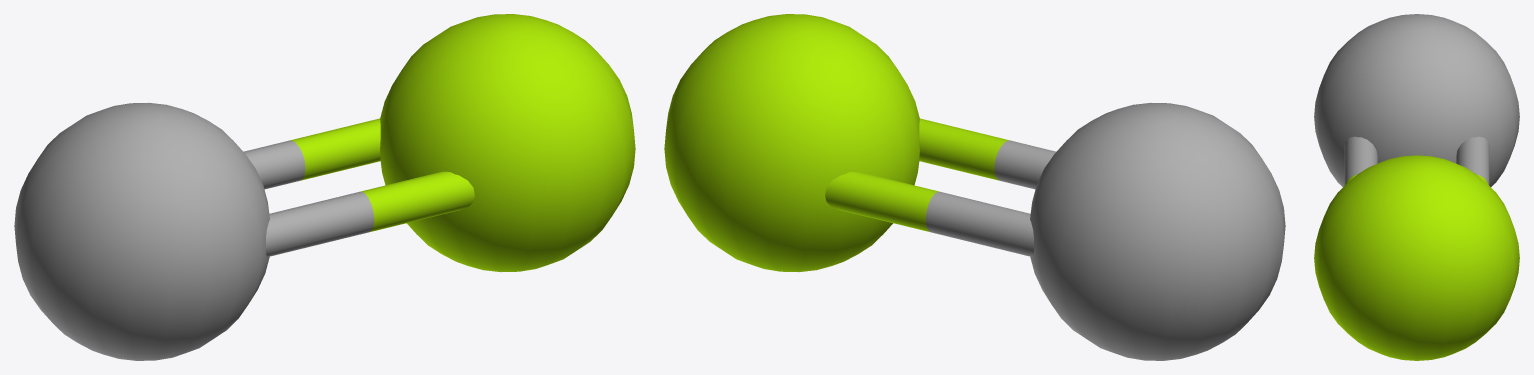
File: BeO.fbx
3 views of the same model, side by side, from view 1: azimuth 30°, elevation 25°; view 2: azimuth 150°, elevation 25°; view 3: azimuth 270°, elevation 25° (orthographic). The views are drawn at different scales.
Parts seen in each view (by area): view 1: BeO; view 2: BeO; view 3: BeO.
Boxes of the visible parts, x1,y1,x2,y2 form: BeO: (14, 14, 635, 360); BeO: (664, 14, 1285, 360); BeO: (1314, 14, 1519, 360).
Bounding box in the file's own units: 5.25 × 2 × 2.
